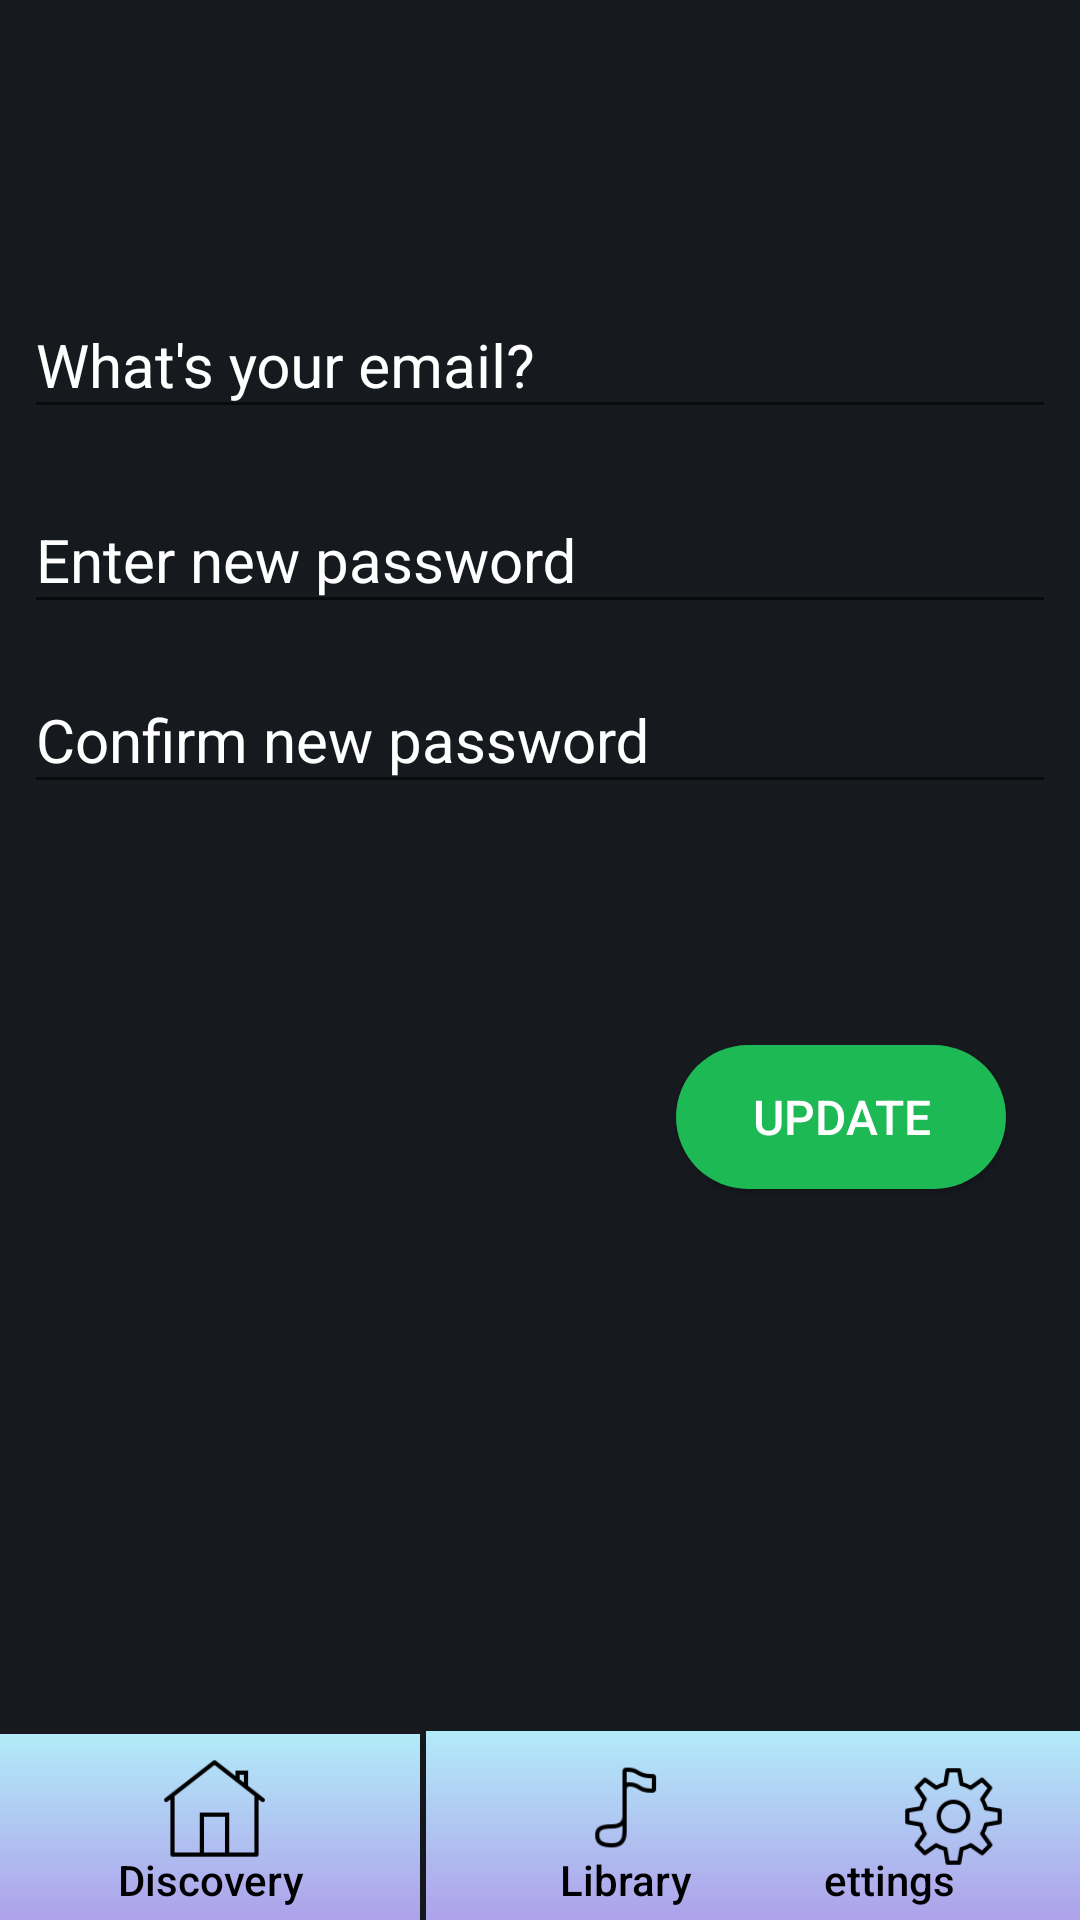

Screen size 1080*1920. Icon name, then its center in pixels as [x,y]:
home: [214,1810]
music: [622,1807]
